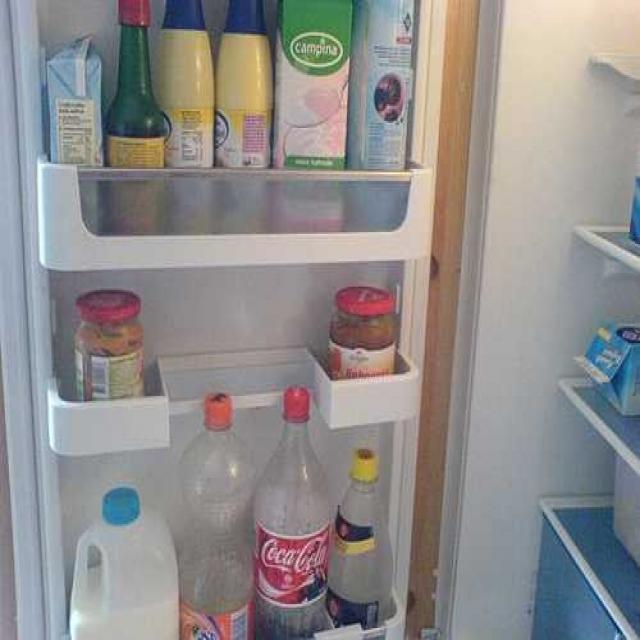refrigerator: (0, 10, 616, 637)
